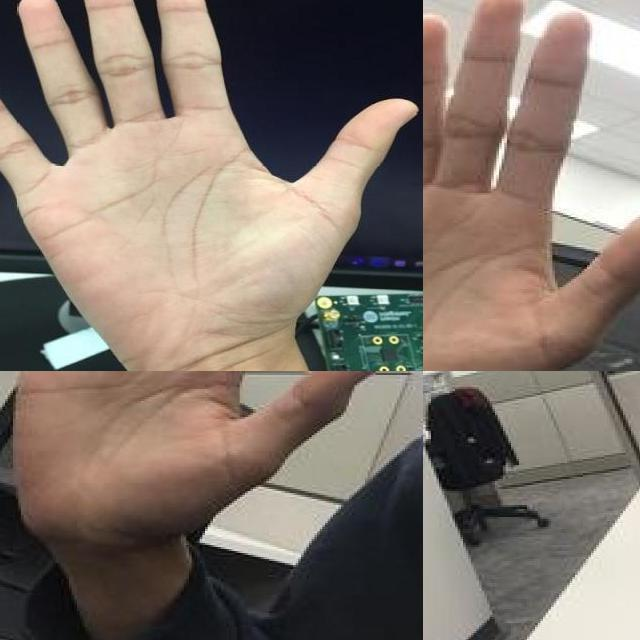hand: (0, 0, 423, 371), (423, 0, 640, 371), (8, 371, 387, 565)
